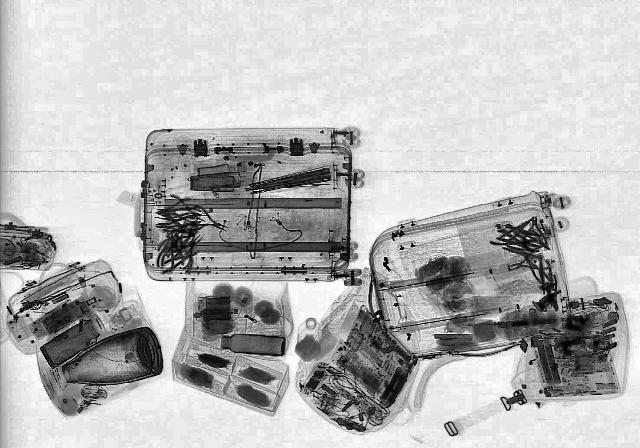Pliers: (500, 245, 560, 279), (179, 205, 235, 237), (153, 248, 207, 274)
